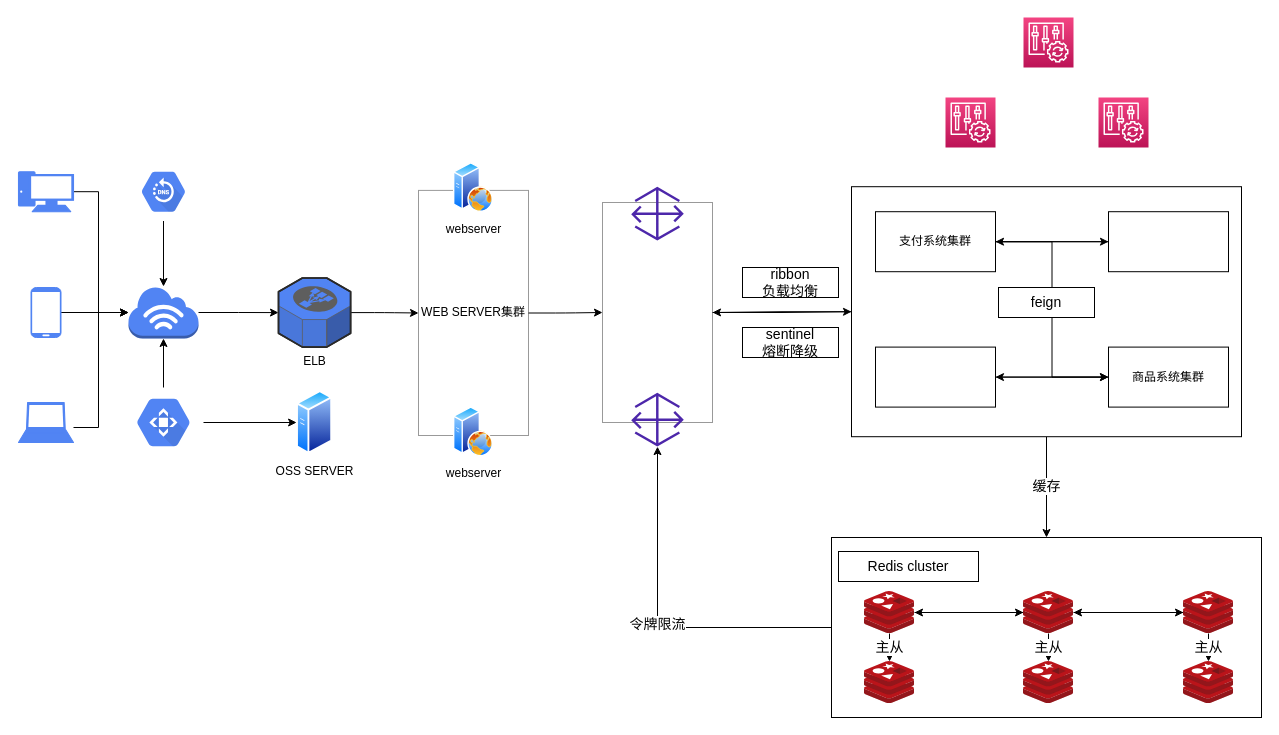
The diagram is 1279 pixels wide and 735 high, and some of its shapes have lost their labels. The box of each missing label's shape, as (x1, y1, x2, y2) in pixels:
CDN: (123, 387, 203, 457)
Cloud DNS: (130, 162, 196, 220)
库存系统集群: (874, 346, 996, 407)
网关: (602, 202, 712, 422)
订单集群: (1108, 211, 1228, 272)
